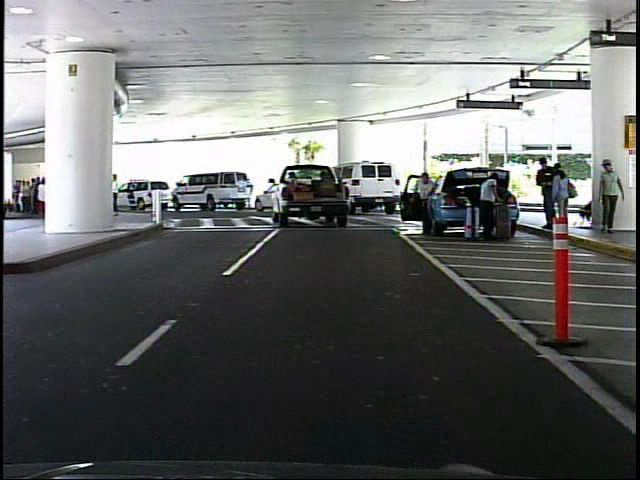person: (470, 169, 505, 245), (407, 164, 441, 237), (594, 157, 624, 237), (550, 158, 579, 238)
